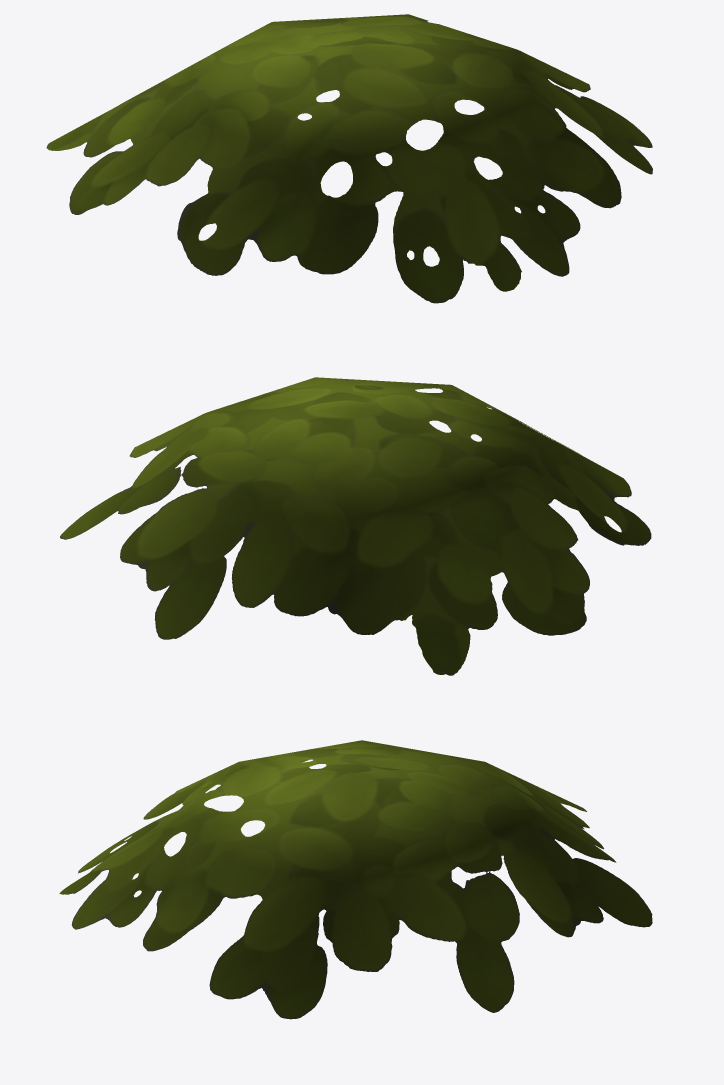
Rendered from Jungle_shadow_02.fbx.
3 renders of one model, top to bottom at view 1: azimuth 30°, elevation 25°; view 2: azimuth 150°, elevation 25°; view 3: azimuth 270°, elevation 25°, orthographic. The views are drawn at different scales.
Visible parts, largest first — view 1: Jungle_shadow_02; view 2: Jungle_shadow_02; view 3: Jungle_shadow_02.
Boxes of the visible parts, left/top/right/bottom form: Jungle_shadow_02: left=46, top=14, right=652, bottom=303; Jungle_shadow_02: left=60, top=377, right=651, bottom=675; Jungle_shadow_02: left=59, top=740, right=652, bottom=1019.
Size of the model in its own units: 165 by 38.91 by 165.
